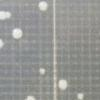white: (10, 27, 24, 41), (35, 0, 50, 13), (57, 77, 69, 91), (38, 65, 49, 78), (0, 36, 8, 53), (75, 91, 87, 100), (23, 93, 38, 100), (0, 9, 7, 22), (5, 11, 12, 19)
